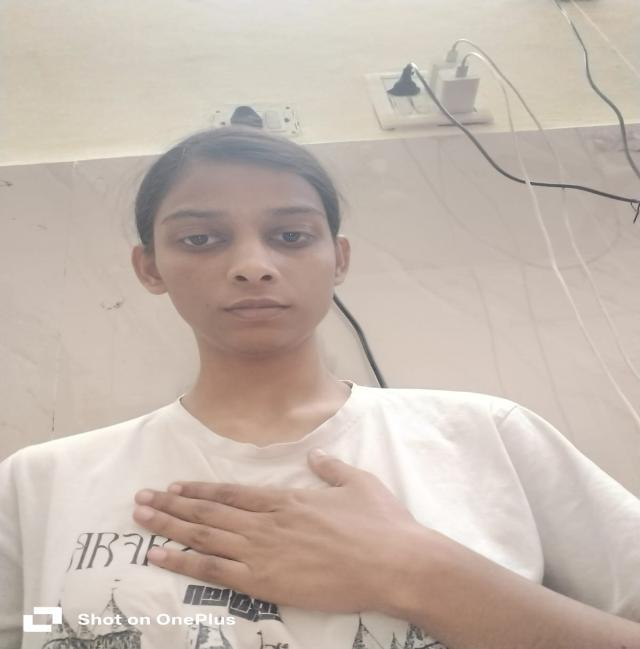Please: (104, 437, 432, 627)
